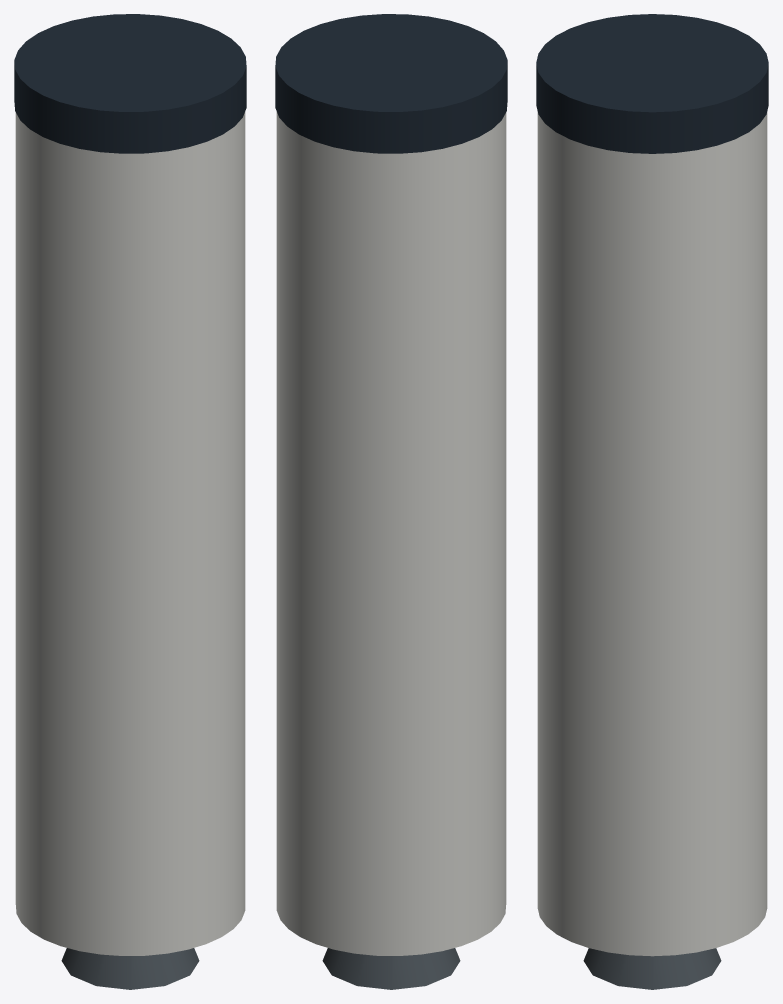
Rendered from falcon9-stage-2.glb.
3 renders of one model, left to right at view 1: azimuth 30°, elevation 25°; view 2: azimuth 150°, elevation 25°; view 3: azimuth 270°, elevation 25°, orthographic.
Parts seen in each view (by area): view 1: body-1, interstage-1, engine-1-0; view 2: body-1, interstage-1, engine-1-0; view 3: body-1, interstage-1, engine-1-0.
Boxes of the visible parts, <box> form: body-1: <box>15,112,245,955</box>; interstage-1: <box>14,14,246,153</box>; engine-1-0: <box>61,948,199,989</box>; body-1: <box>276,112,506,955</box>; interstage-1: <box>275,14,507,153</box>; engine-1-0: <box>322,948,460,989</box>; body-1: <box>537,112,767,956</box>; interstage-1: <box>536,14,768,153</box>; engine-1-0: <box>583,948,721,989</box>.
Bounding box in the file's own units: 3.74 × 15.94 × 3.74.
